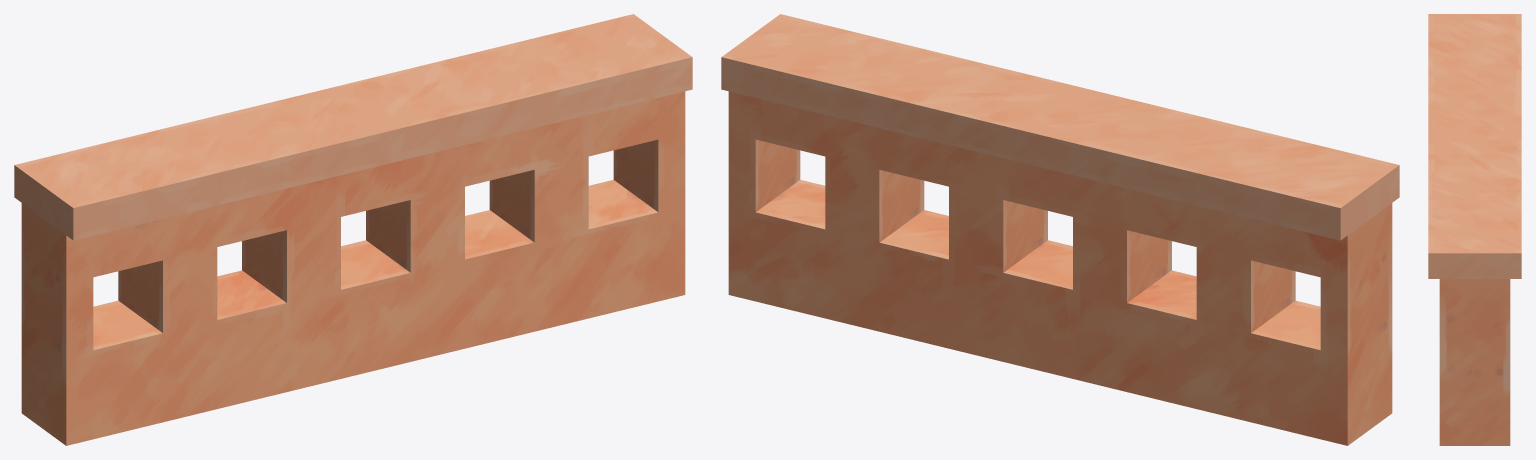
File: parapet_pierced.bundle.fbx
3 views of the same model, side by side, from view 1: azimuth 30°, elevation 25°; view 2: azimuth 150°, elevation 25°; view 3: azimuth 270°, elevation 25° (orthographic). The views are drawn at different scales.
Parts seen in each view (by area): view 1: parapet_pierced, parapet_pierced_s01, parapet_pierced_s03, parapet_pierced_s04, parapet_pierced_s02, parapet_pierced_s00; view 2: parapet_pierced, parapet_pierced_s01, parapet_pierced_s04, parapet_pierced_s02, parapet_pierced_s03, parapet_pierced_s00; view 3: parapet_pierced, parapet_pierced_s02, parapet_pierced_s04, parapet_pierced_s03, parapet_pierced_s01, parapet_pierced_s00.
Boxes of the visible parts, bbox=[...] form: parapet_pierced: bbox=[14, 14, 692, 445]; parapet_pierced_s01: bbox=[208, 78, 490, 400]; parapet_pierced_s03: bbox=[16, 118, 273, 407]; parapet_pierced_s04: bbox=[372, 38, 603, 256]; parapet_pierced_s02: bbox=[545, 15, 692, 294]; parapet_pierced_s00: bbox=[435, 191, 668, 355]; parapet_pierced: bbox=[721, 14, 1399, 445]; parapet_pierced_s01: bbox=[930, 83, 1197, 406]; parapet_pierced_s04: bbox=[811, 35, 1064, 237]; parapet_pierced_s02: bbox=[721, 14, 868, 268]; parapet_pierced_s03: bbox=[1148, 116, 1398, 408]; parapet_pierced_s00: bbox=[728, 209, 996, 360]; parapet_pierced: bbox=[1428, 14, 1521, 445]; parapet_pierced_s02: bbox=[1428, 219, 1521, 445]; parapet_pierced_s04: bbox=[1428, 143, 1521, 218]; parapet_pierced_s03: bbox=[1428, 14, 1521, 91]; parapet_pierced_s01: bbox=[1429, 89, 1521, 151]; parapet_pierced_s00: bbox=[1458, 427, 1510, 445].
Size of the model in its own units: 8 by 3 by 1.32.
1 material, 1 textured.
